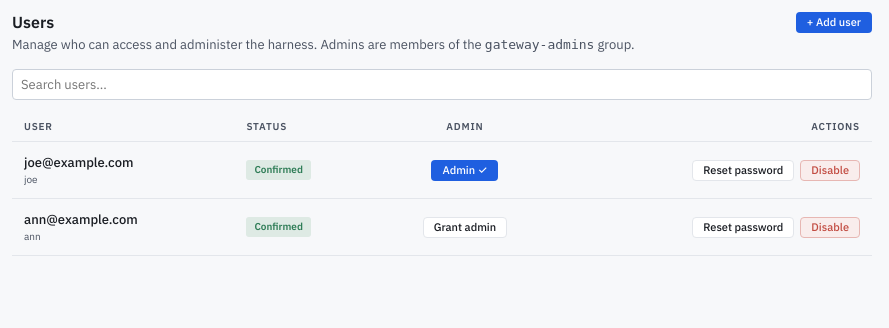
Test: UsersPanel › soft-disables (POST /disable) and surfaces an Undo affordance
The width and height of the screenshot is (889, 328).
Expected: the text "joe@example.com" is shown, [24,154,133,171]
Click the button "Disable" in the row of "joe@example.com" at (830,170), box [800,160,860,180]
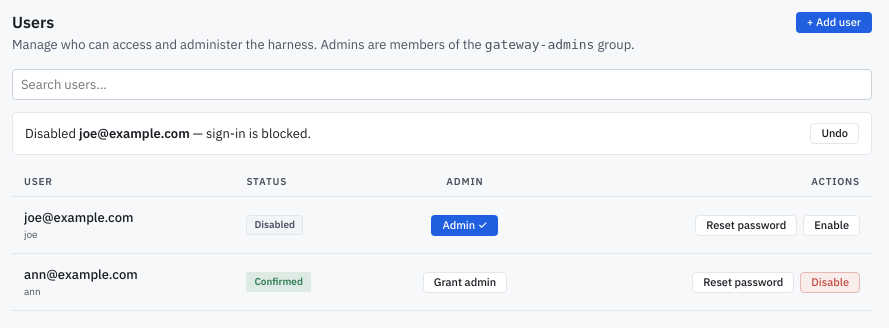
Result: the button "Undo" is shown at [810,123,859,144]
